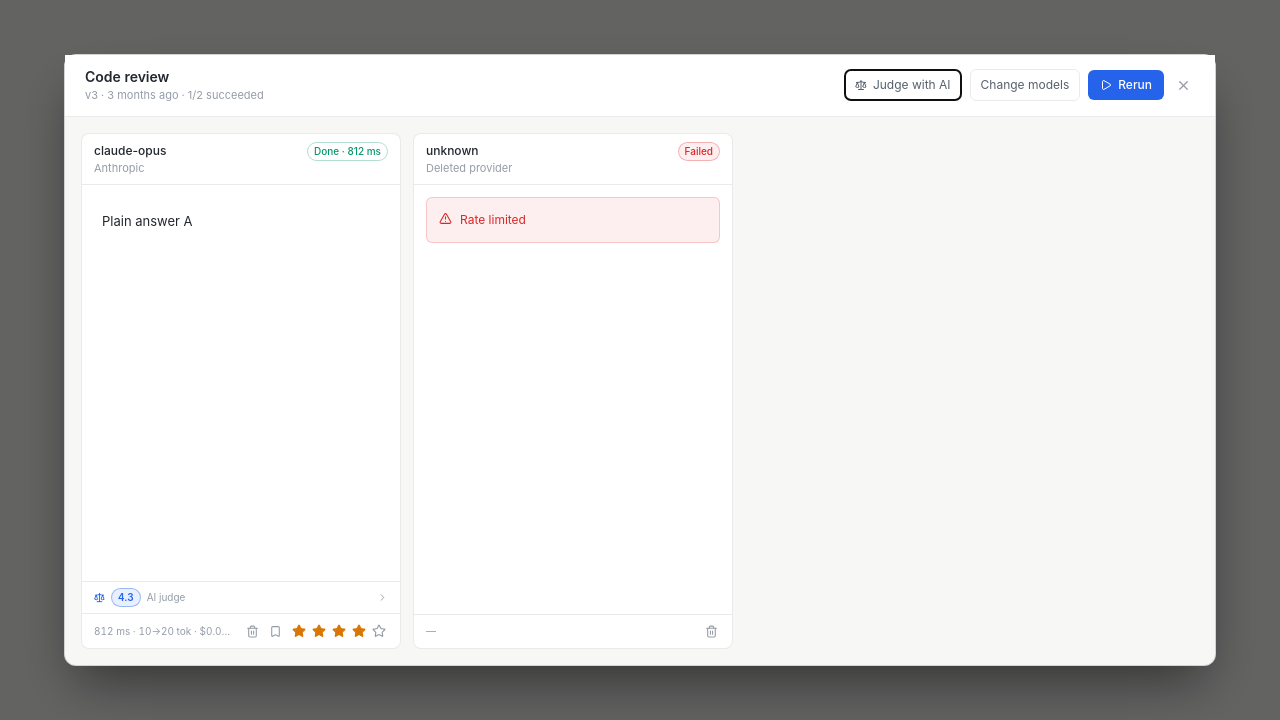
RunCompareView judging › renders the judge badge and rationale for a stored (previously applied) group
The image size is (1280, 720).
Expected: the text "claude-opus" is shown, left=94, top=142, right=166, bottom=160
# Badge from stored metrics — no fresh judging needed, no apply footer.
Click the button "4.3 AI judge": (166, 597) left=82, top=582, right=400, bottom=613
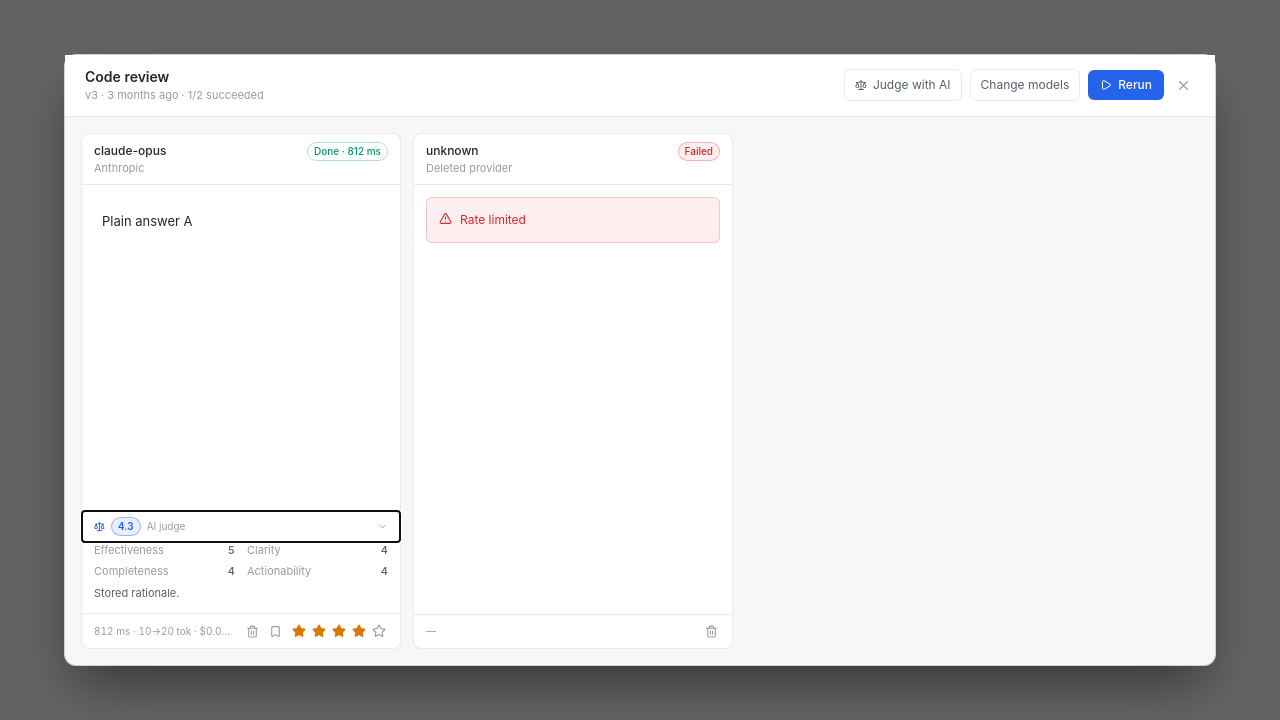
Expected: the text "Stored rationale." is shown, left=94, top=586, right=180, bottom=600
